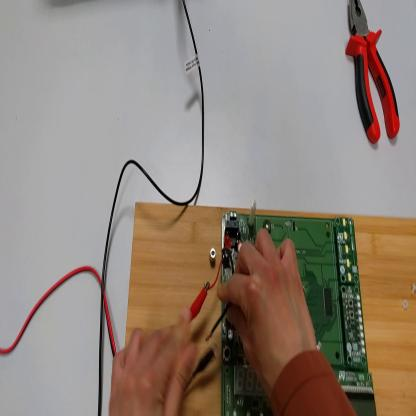hand: (215, 228, 320, 390), (110, 318, 198, 416)
low voltage board: (207, 213, 378, 413)
pliers: (346, 1, 402, 152)
working area: (123, 201, 416, 414)
